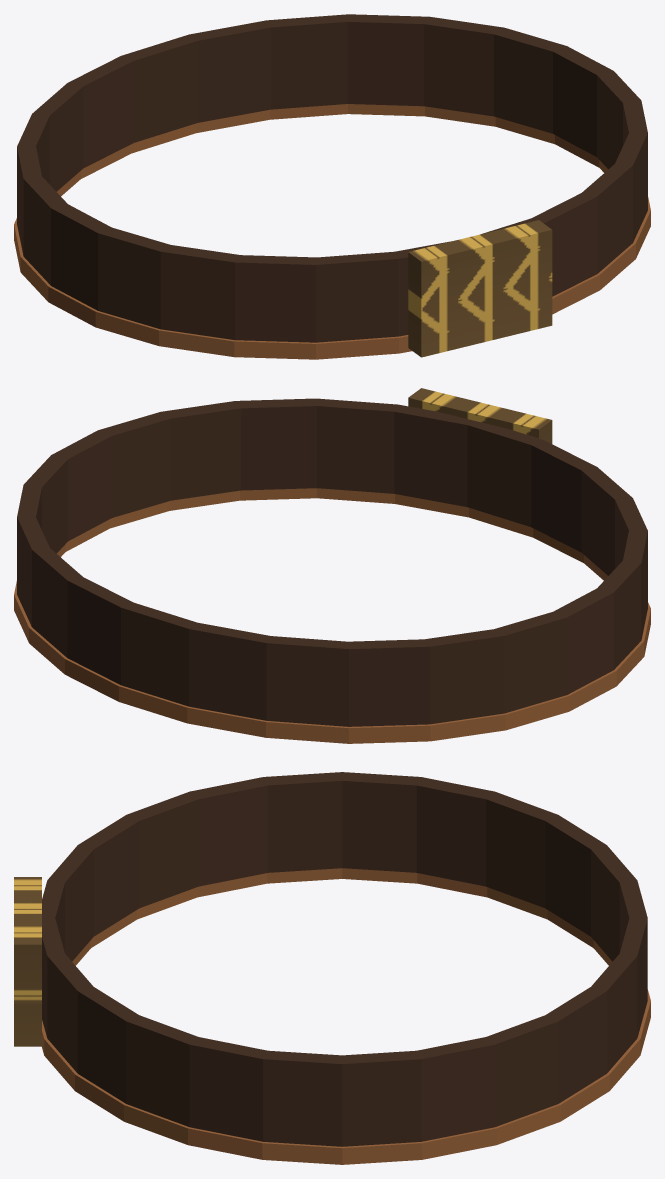
File: enano_cinto_1.glb
The picture shows the model from 3 angles, top to bottom: view 1: azimuth 30°, elevation 25°; view 2: azimuth 150°, elevation 25°; view 3: azimuth 270°, elevation 25°; orthographic projection. The views are drawn at different scales.
Parts seen in each view (by area): view 1: enano_cinto_1; view 2: enano_cinto_1; view 3: enano_cinto_1.
Boxes of the visible parts, box(x1,y1,x2,y2) form: enano_cinto_1: box(14, 14, 650, 359); enano_cinto_1: box(14, 388, 650, 743); enano_cinto_1: box(14, 772, 650, 1164).
Size of the model in its own units: 0.868 by 0.1465 by 0.7925.
Materials: 1 (1 with a texture image).
